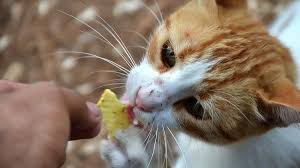Gato: (131, 5, 299, 150)
